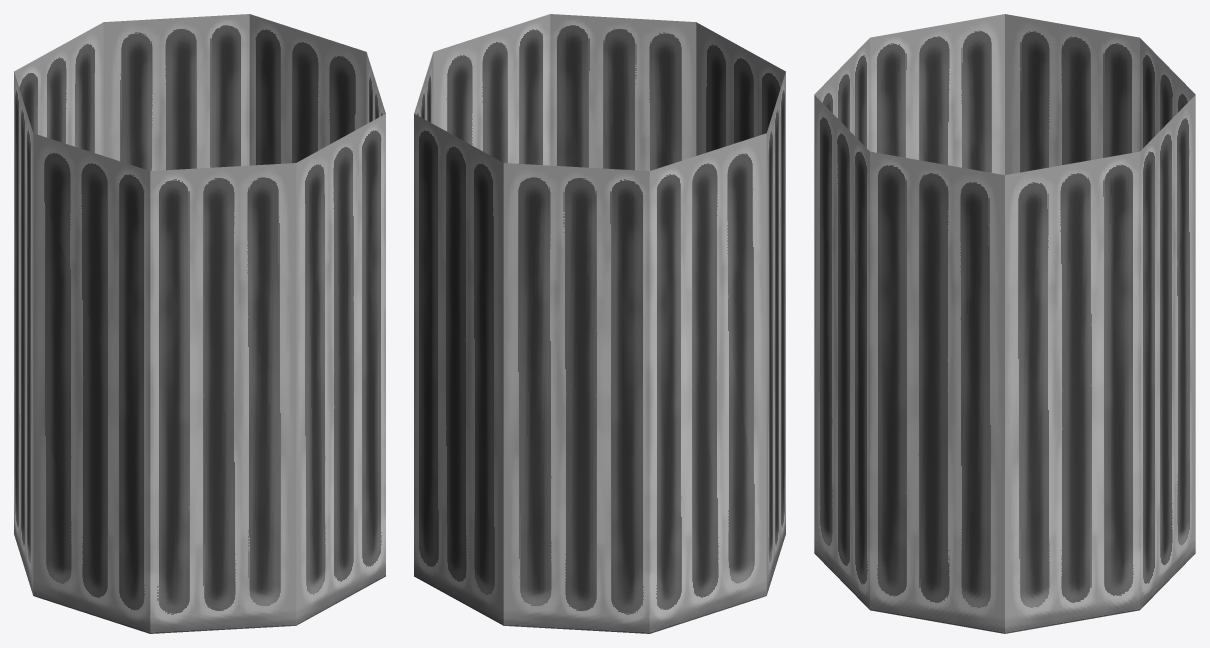
File: Colonna3.glb
3 renders of one model, left to right at view 1: azimuth 30°, elevation 25°; view 2: azimuth 150°, elevation 25°; view 3: azimuth 270°, elevation 25°, orthographic.
Visible parts, largest first — view 1: Colonna_03; view 2: Colonna_03; view 3: Colonna_03.
Boxes of the visible parts, left/top/right/bottom form: Colonna_03: left=14, top=14, right=385, bottom=633; Colonna_03: left=414, top=14, right=785, bottom=633; Colonna_03: left=814, top=14, right=1195, bottom=633.
Size of the model in its own units: 2.76 by 3.66 by 2.76.
1 material, 1 textured.
